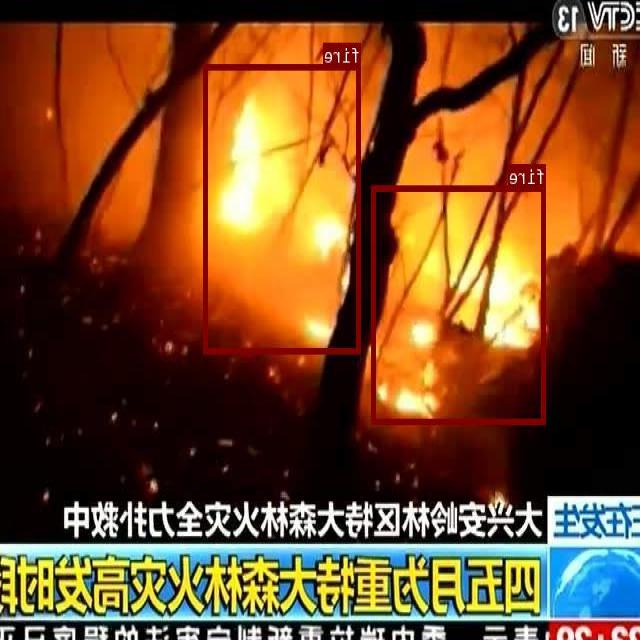fire: (205, 63, 362, 353), (373, 185, 546, 422)
